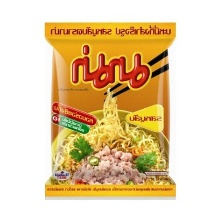snack: (37, 15, 188, 206)
